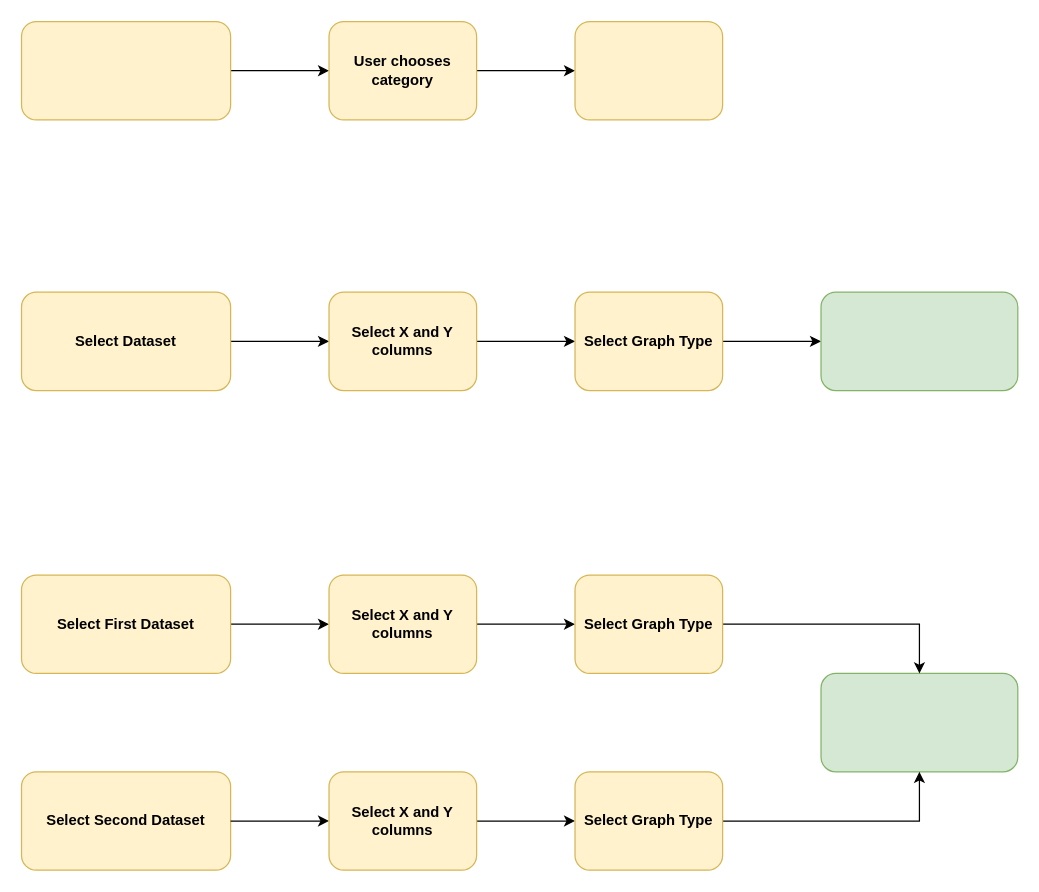
The diagram is 1039 pixels wide and 892 high, and some of its shapes have lost their labels. Here are the shapes that lost their labels. From the top down, the centre of each, then its label:
At (125,70): "User visits website".
At (648,70): "User chooses Dataset".
At (919,341): "Generate Graph".
At (919,722): "Draw Combined Graph".
